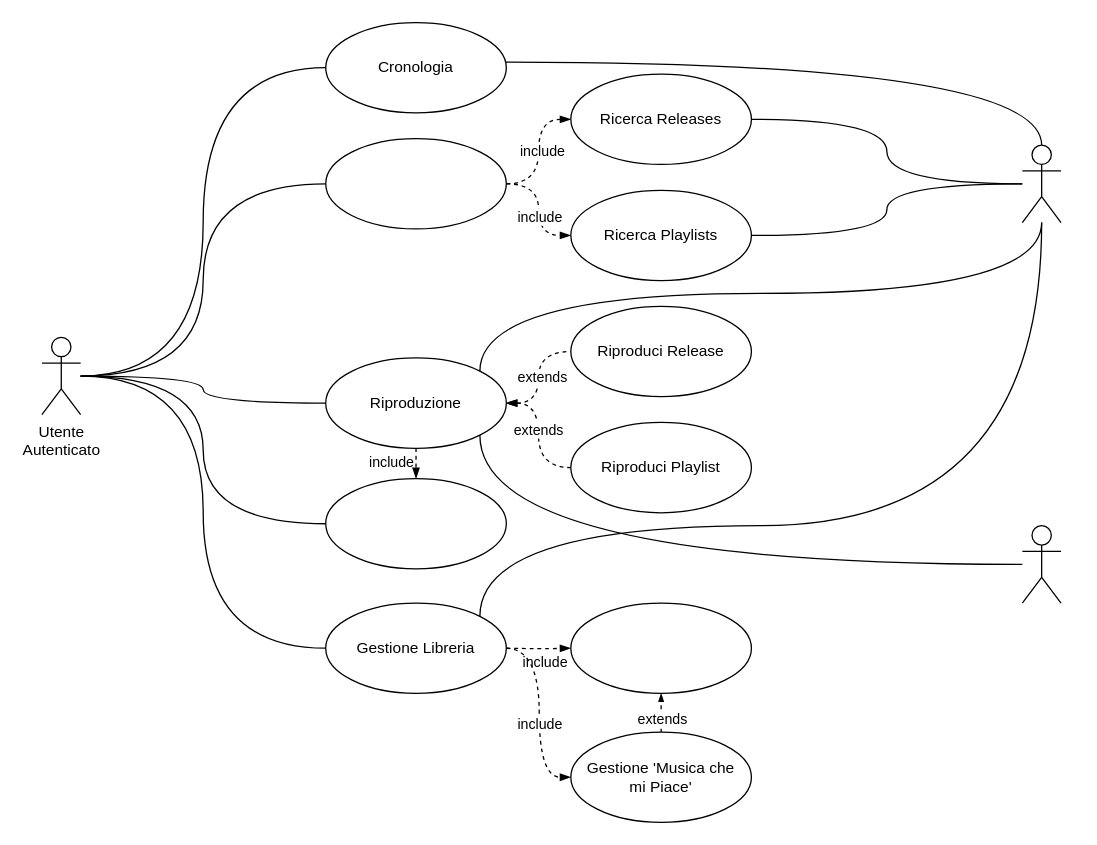
The diagram is 1097 pixels wide and 845 high, and some of its shapes have lost their labels. Here are the shapes that lost their labels. From the top down, the centre of each, then its label:
(x=415, y=183): Ricerca
(x=1041, y=183): Database
(x=415, y=523): Gestione Coda
(x=1041, y=563): DRM
(x=660, y=647): Gestione Playlist
